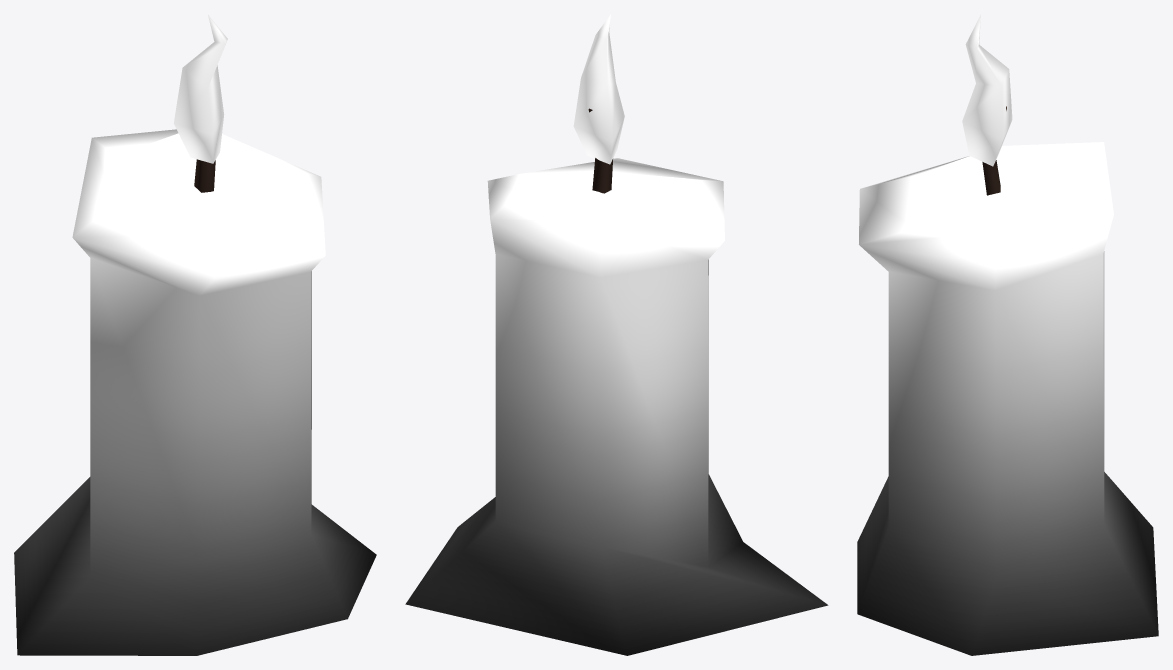
Rendered from CandleShapeD.006.glb.
The picture shows the model from 3 angles, left to right: view 1: azimuth 30°, elevation 25°; view 2: azimuth 150°, elevation 25°; view 3: azimuth 270°, elevation 25°; orthographic projection. The views are drawn at different scales.
Visible parts, largest first — view 1: CandleShapeD.006; view 2: CandleShapeD.006; view 3: CandleShapeD.006.
Part boxes in pixels (box(x1,y1,x2,y2)): CandleShapeD.006: box(14, 15, 376, 655); CandleShapeD.006: box(405, 14, 828, 655); CandleShapeD.006: box(857, 14, 1158, 655).
Size of the model in its own units: 0.1822 by 0.2697 by 0.1308.
Materials: 2 (2 with a texture image).
